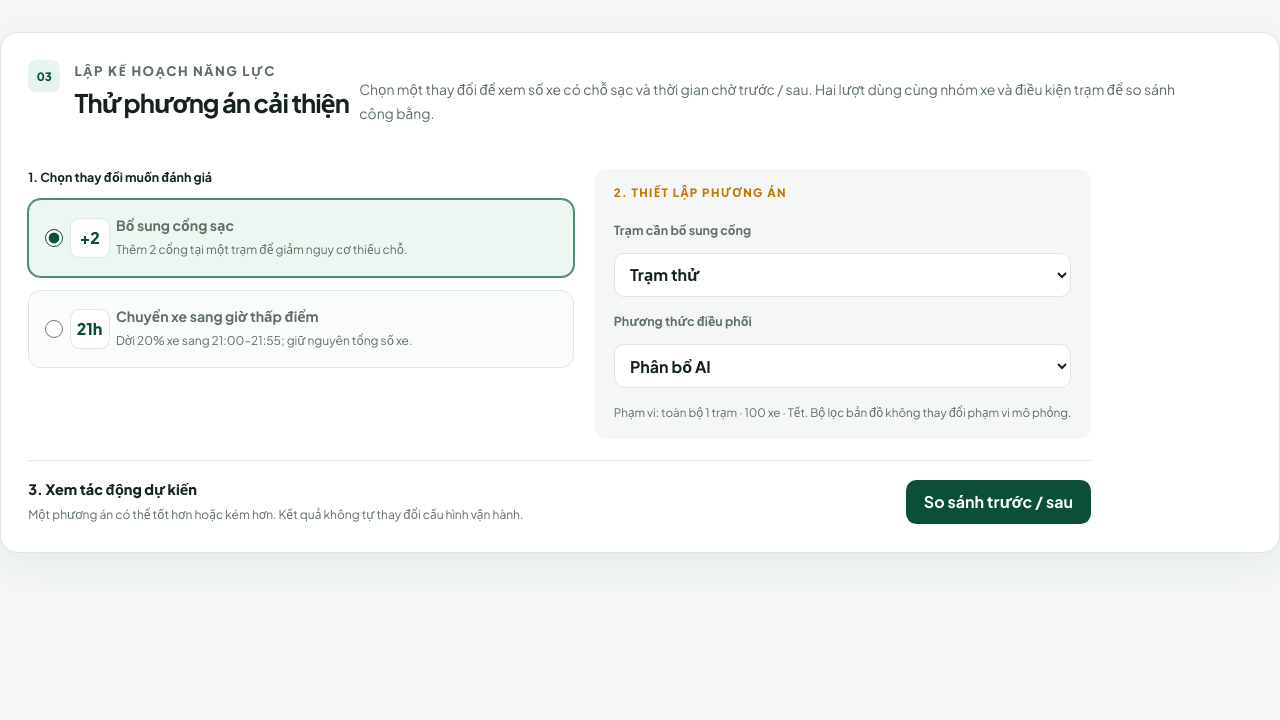
Test case: what-if is explicit and shows an honest before/after comparison
Click the button "So sánh trước / sau".
click(998, 502)  # box [906,480,1091,524]
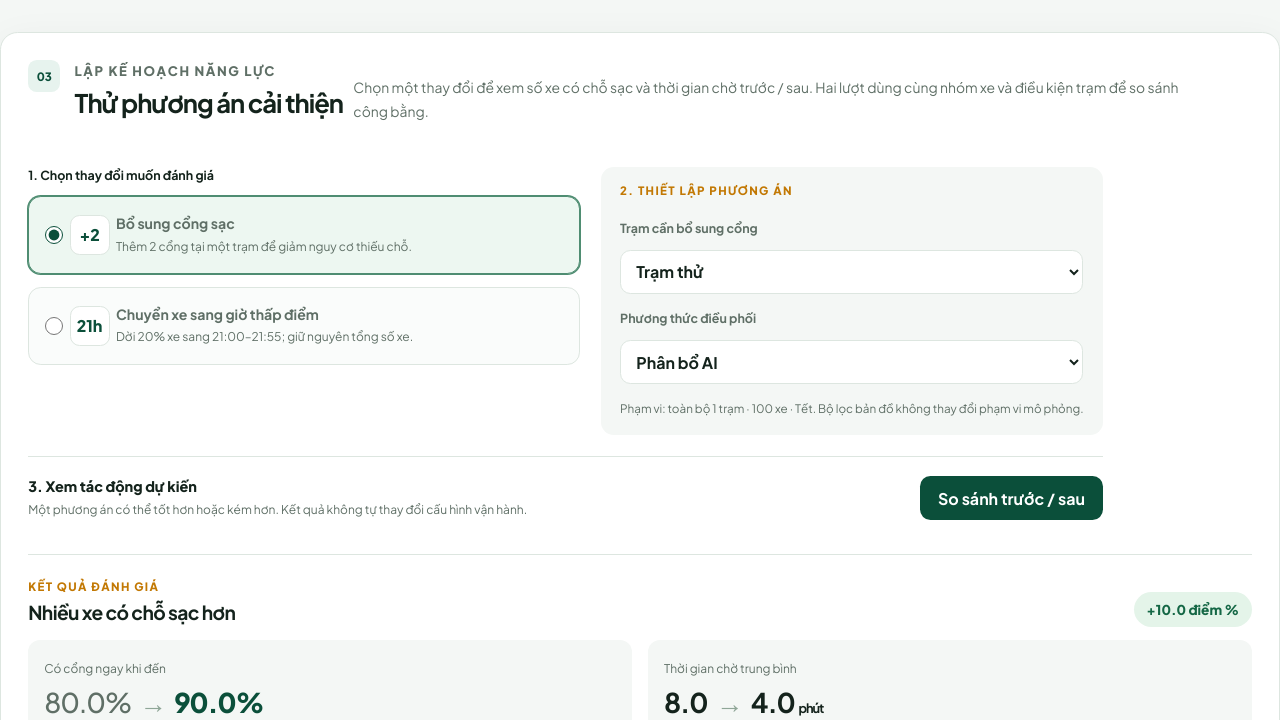
expect the text "80.0%" is shown: met, box [44,685,131,719]
expect the text "90.0%" is shown: met, box [174,685,264,719]
